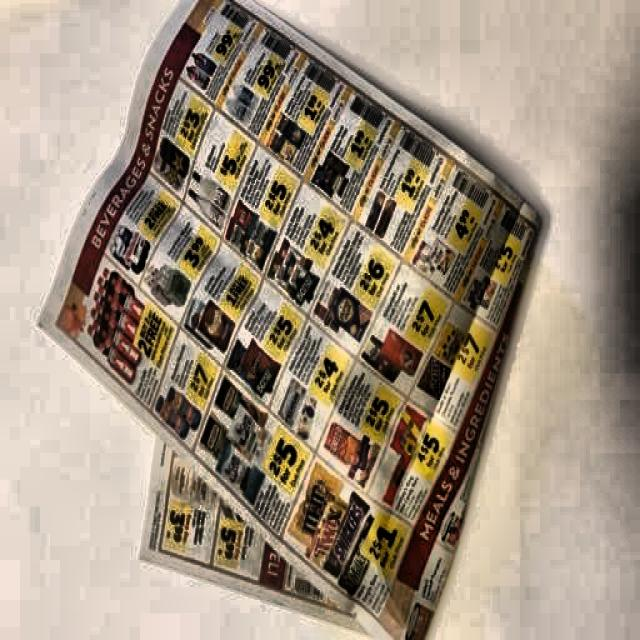paper: (41, 3, 538, 608)
